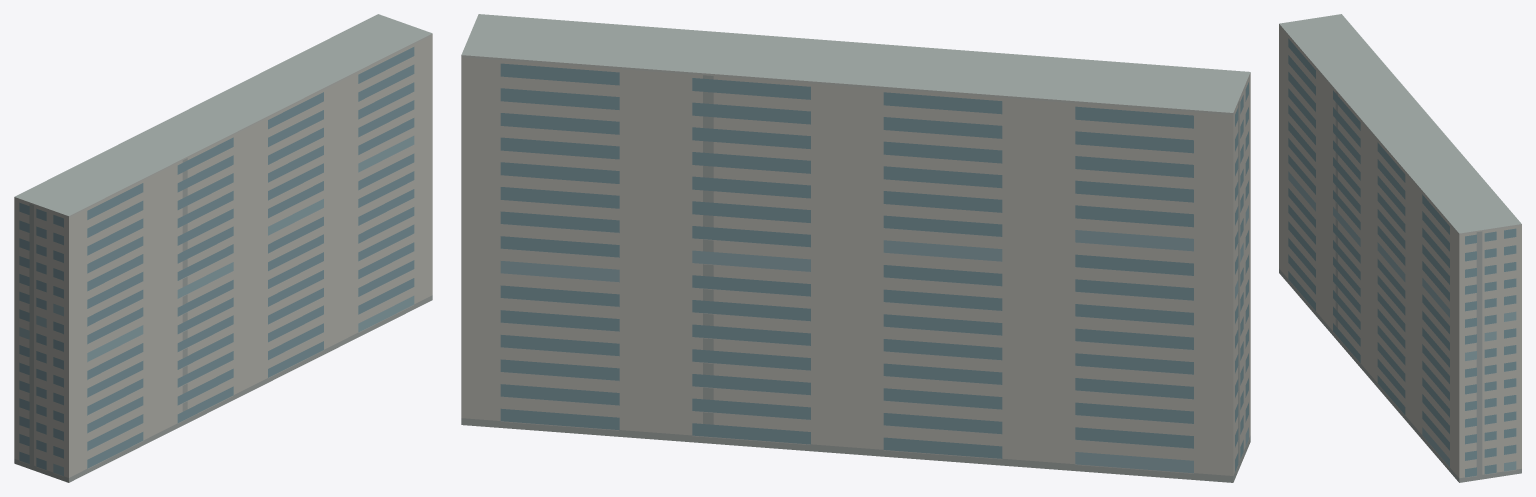
Rendered from residential-a97e1b84-a819-4847-9fc6-3254b5fcdae8.glb.
3 views of the same model, side by side, from view 1: azimuth 30°, elevation 25°; view 2: azimuth 150°, elevation 25°; view 3: azimuth 270°, elevation 25° (orthographic). The views are drawn at different scales.
Parts seen in each view (by area): view 1: residential-a97e1b84-a819-4847-9fc6-3254b5fcdae8.tmp; view 2: residential-a97e1b84-a819-4847-9fc6-3254b5fcdae8.tmp; view 3: residential-a97e1b84-a819-4847-9fc6-3254b5fcdae8.tmp.
Boxes of the visible parts, x1,y1,x2,y2 form: residential-a97e1b84-a819-4847-9fc6-3254b5fcdae8.tmp: (14, 14, 432, 482); residential-a97e1b84-a819-4847-9fc6-3254b5fcdae8.tmp: (461, 14, 1250, 482); residential-a97e1b84-a819-4847-9fc6-3254b5fcdae8.tmp: (1279, 14, 1521, 482).
Size of the model in its own units: 86.41 by 45.75 by 40.39.
